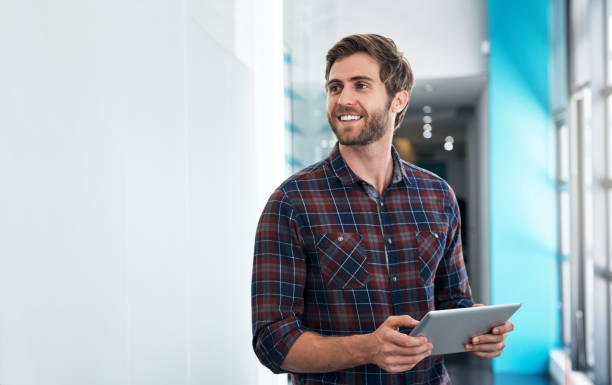without mask: (308, 29, 425, 149)
